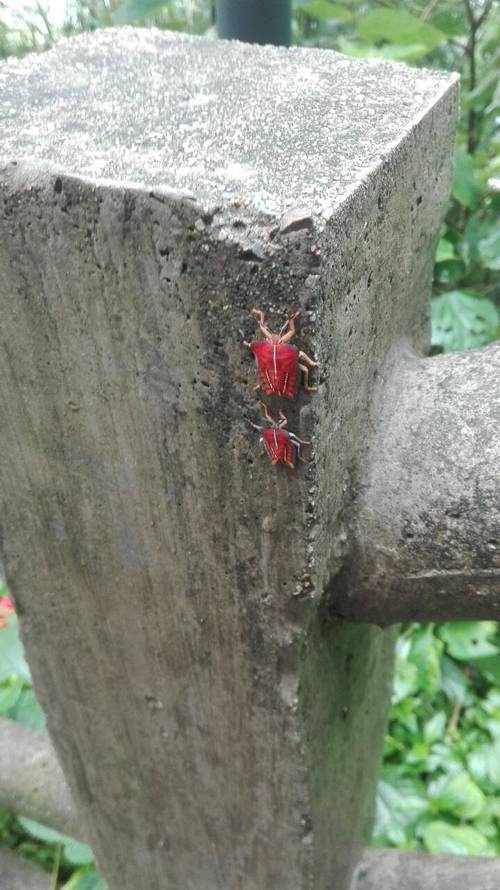Stink_Bug: (246, 306, 333, 496)
